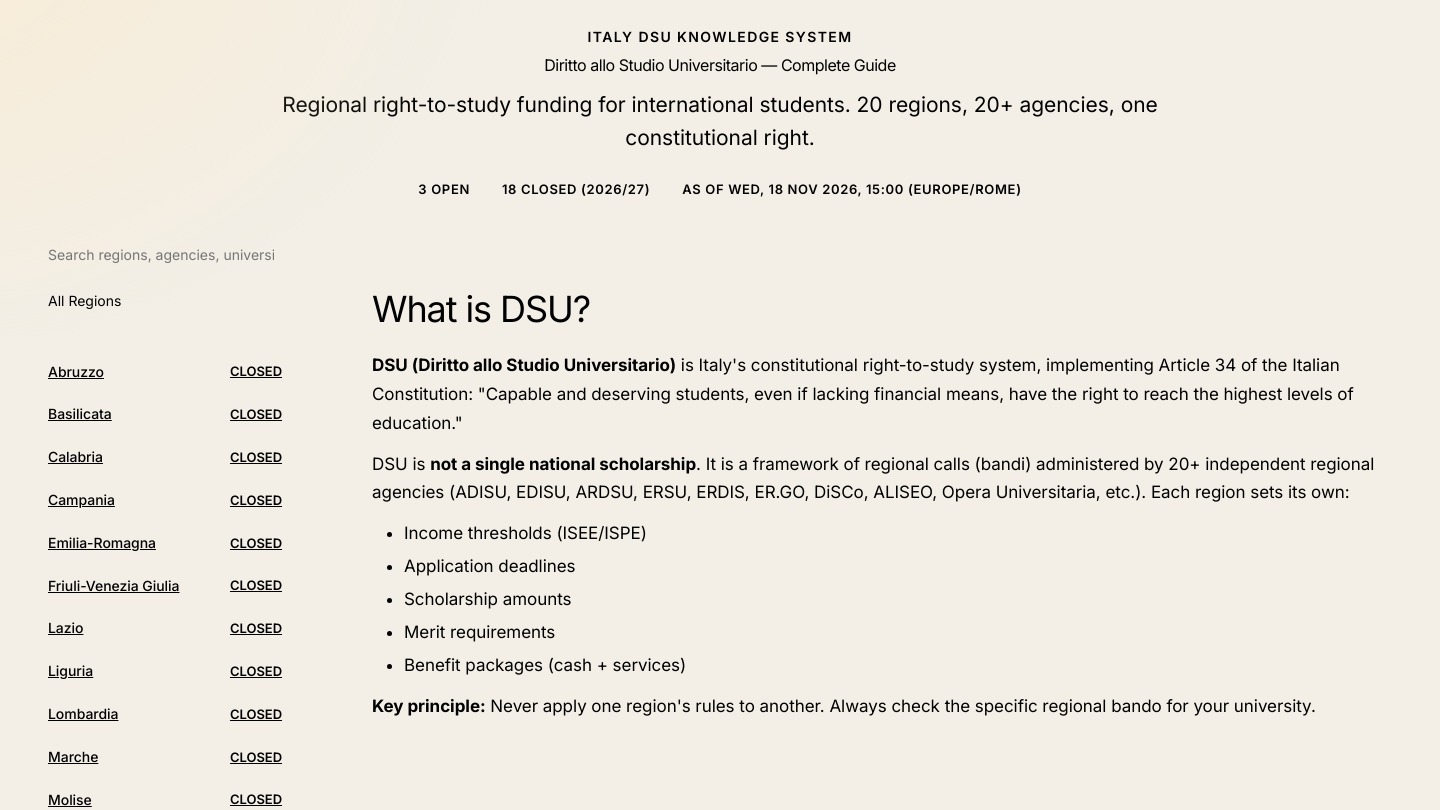
Test case: ItalyDsuGuidePage - search functionality › filters unrelated rows from search results
Type "Trento" into the search field with placeholder "Search regions, agencies, universities…" at (168, 255), box [36,236,300,274]
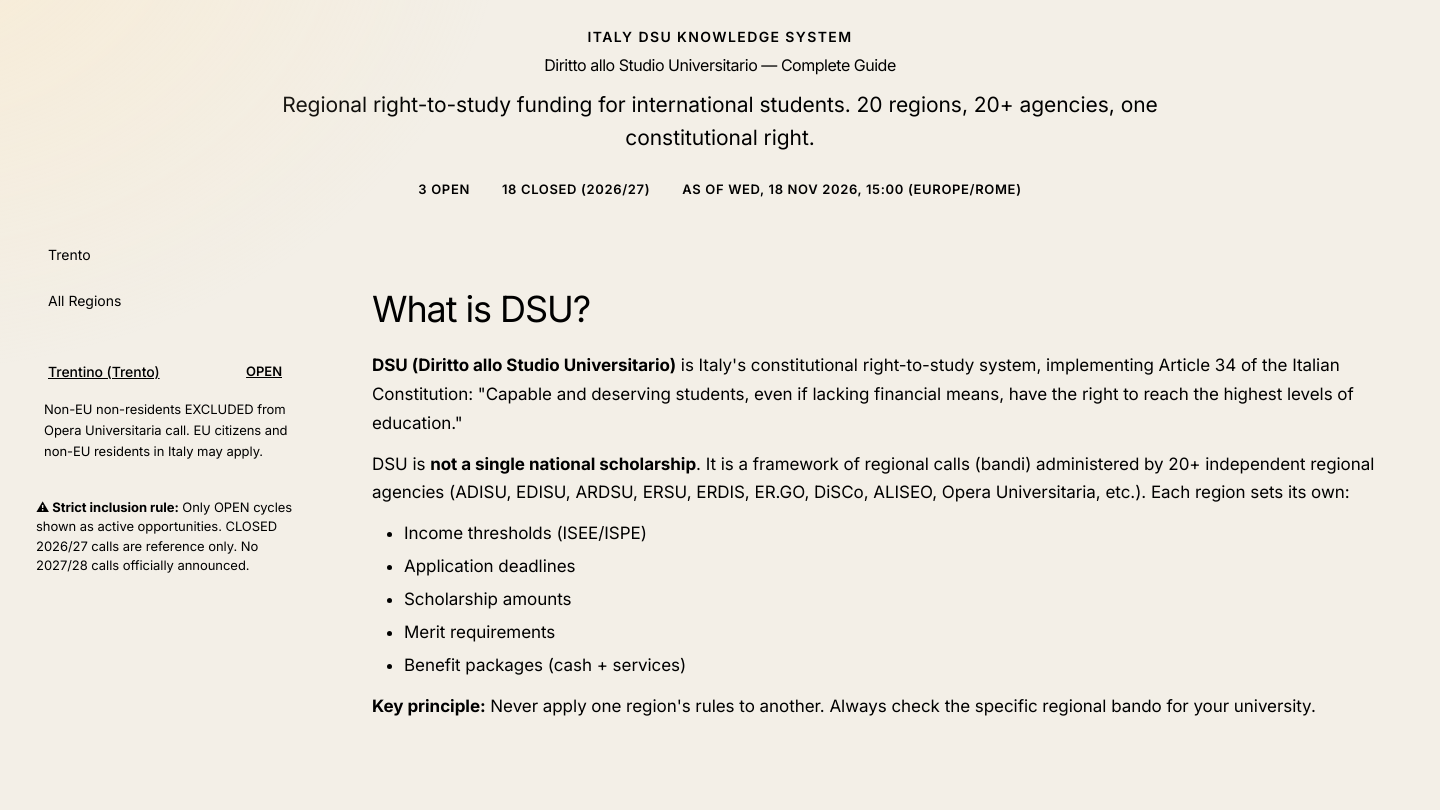
Expected: the list item that starts with "Trentino (Trento)" is shown, [36,352,300,391]
